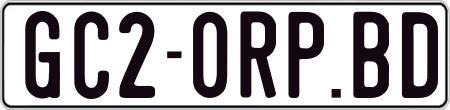0: (190, 11, 225, 98)
2: (117, 10, 157, 96)
B: (351, 11, 393, 98)
C: (72, 9, 113, 98)
D: (400, 11, 432, 101)
G: (22, 8, 59, 97)
P: (287, 10, 322, 102)
R: (241, 9, 278, 102)
